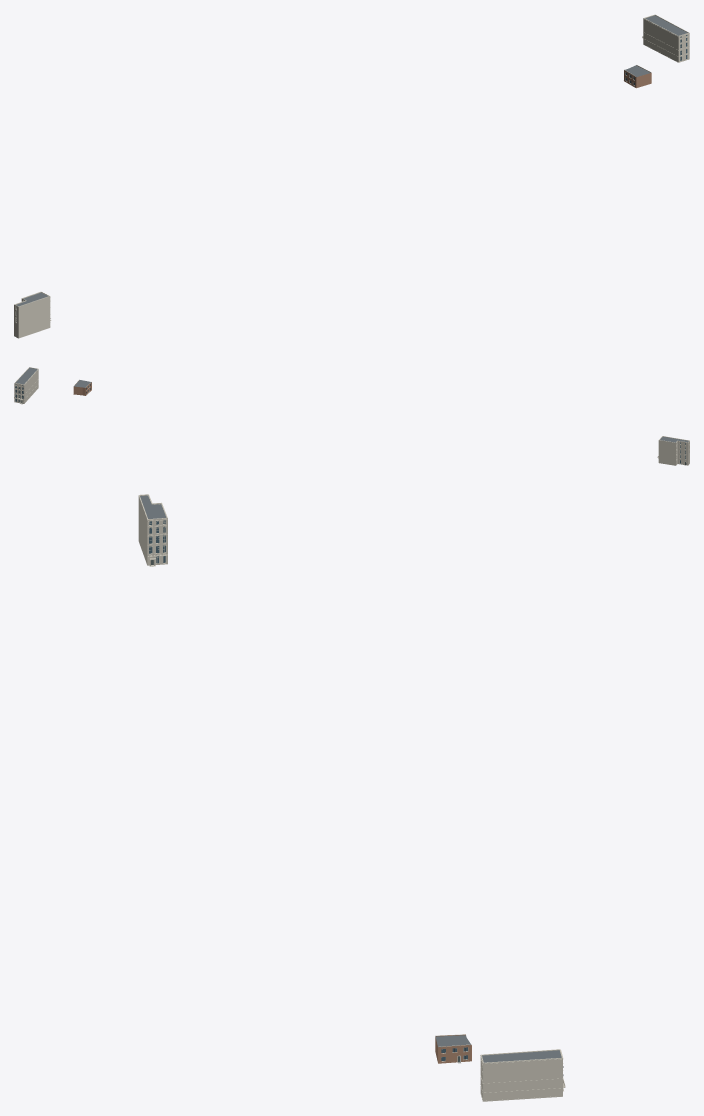
The model's file is replacement.glb.
3 views of the same model, one above another, from view 1: azimuth 30°, elevation 25°; view 2: azimuth 150°, elevation 25°; view 3: azimuth 270°, elevation 25° (orthographic). The views are drawn at different scales.
Visible parts, largest first — view 1: 8 Queens Gate | pierced masonry, 23 Princes Gate (historic school) | pierced muted masonry fa; view 2: 8 Queens Gate | pierced masonry, 23 Princes Gate (historic school) | pierced muted masonry fa; view 3: 23 Princes Gate (historic school) | pierced muted masonry fa, 8 Queens Gate | pierced masonry.
Boxes of the visible parts, left/top/right/bottom form: 8 Queens Gate | pierced masonry: left=14, top=292, right=50, bottom=338; 23 Princes Gate (historic school) | pierced muted masonry fa: left=643, top=19, right=689, bottom=62; 8 Queens Gate | pierced masonry: left=658, top=439, right=689, bottom=465; 23 Princes Gate (historic school) | pierced muted masonry fa: left=14, top=370, right=38, bottom=403; 23 Princes Gate (historic school) | pierced muted masonry fa: left=480, top=1057, right=562, bottom=1100; 8 Queens Gate | pierced masonry: left=138, top=495, right=167, bottom=565.
Bounding box in the file's own units: 518 × 19.9 × 166.
